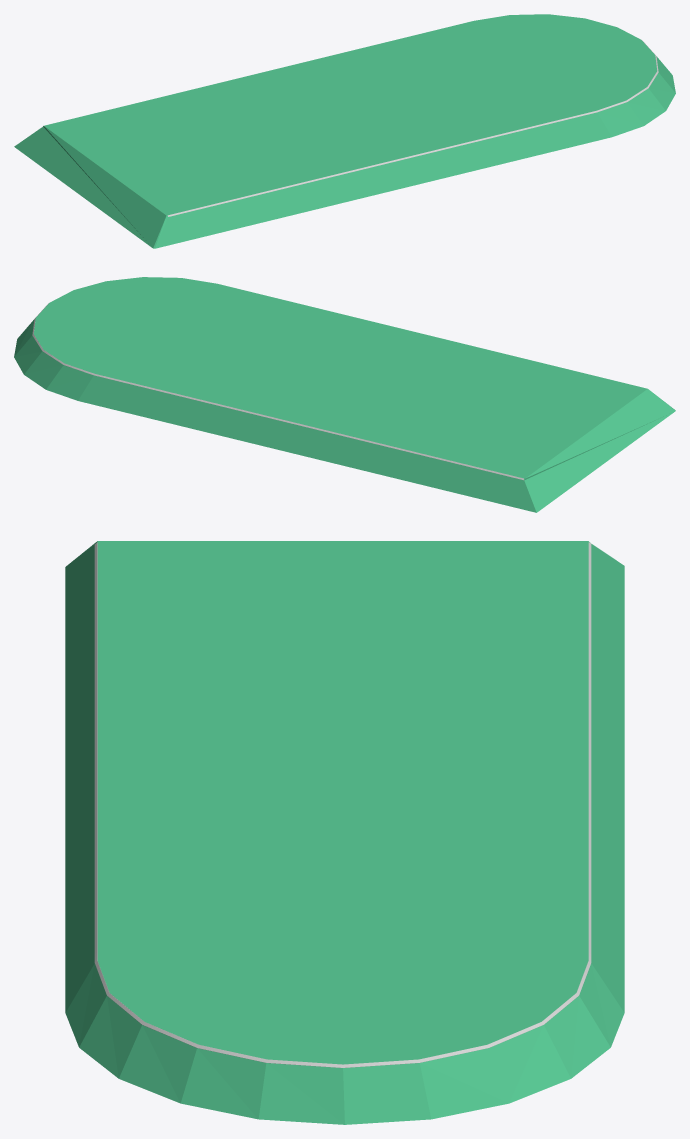
The model's file is gm_curb_rounded_01.dae.
The picture shows the model from 3 angles, top to bottom: view 1: azimuth 30°, elevation 25°; view 2: azimuth 150°, elevation 25°; view 3: azimuth 270°, elevation 25°; orthographic projection. The views are drawn at different scales.
Visible parts, largest first — view 1: Colmesh-1, ind_bld_c10; view 2: Colmesh-1, ind_bld_c10; view 3: Colmesh-1, ind_bld_c10.
Boxes of the visible parts, x1,y1,x2,y2 form: Colmesh-1: (14,14,675,248); ind_bld_c10: (167,14,658,216); Colmesh-1: (14,277,675,512); ind_bld_c10: (32,277,523,480); Colmesh-1: (65,541,624,1124); ind_bld_c10: (94,542,591,1067).
Bounding box in the file's own units: 10.66 × 4.51 × 0.4001.
